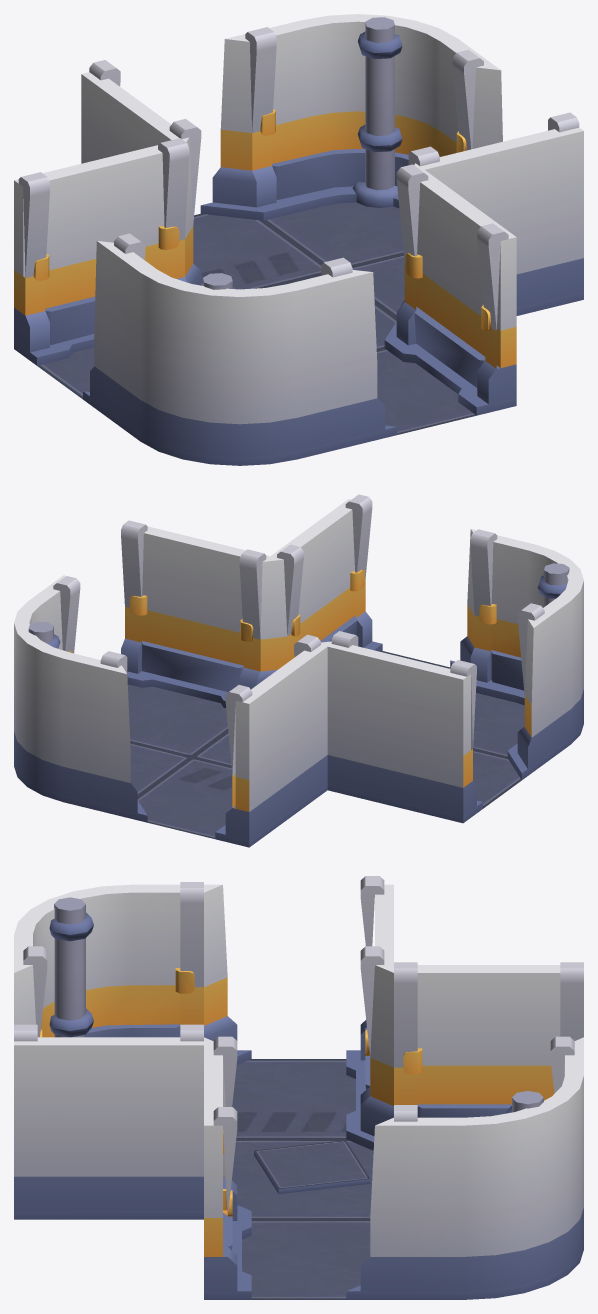
Rendered from kenney-space-modular-room-small-variation.glb.
3 renders of one model, top to bottom at view 1: azimuth 30°, elevation 25°; view 2: azimuth 150°, elevation 25°; view 3: azimuth 270°, elevation 25°, orthographic. The views are drawn at different scales.
Visible parts, largest first — view 1: room-small-variation; view 2: room-small-variation; view 3: room-small-variation.
Part boxes in pixels (x1,y1,x2,y2): room-small-variation: (14, 14, 583, 465); room-small-variation: (14, 494, 583, 847); room-small-variation: (14, 876, 583, 1299).
Bounding box in the file's own units: 12 × 4.25 × 12.
1 material, 1 textured.
